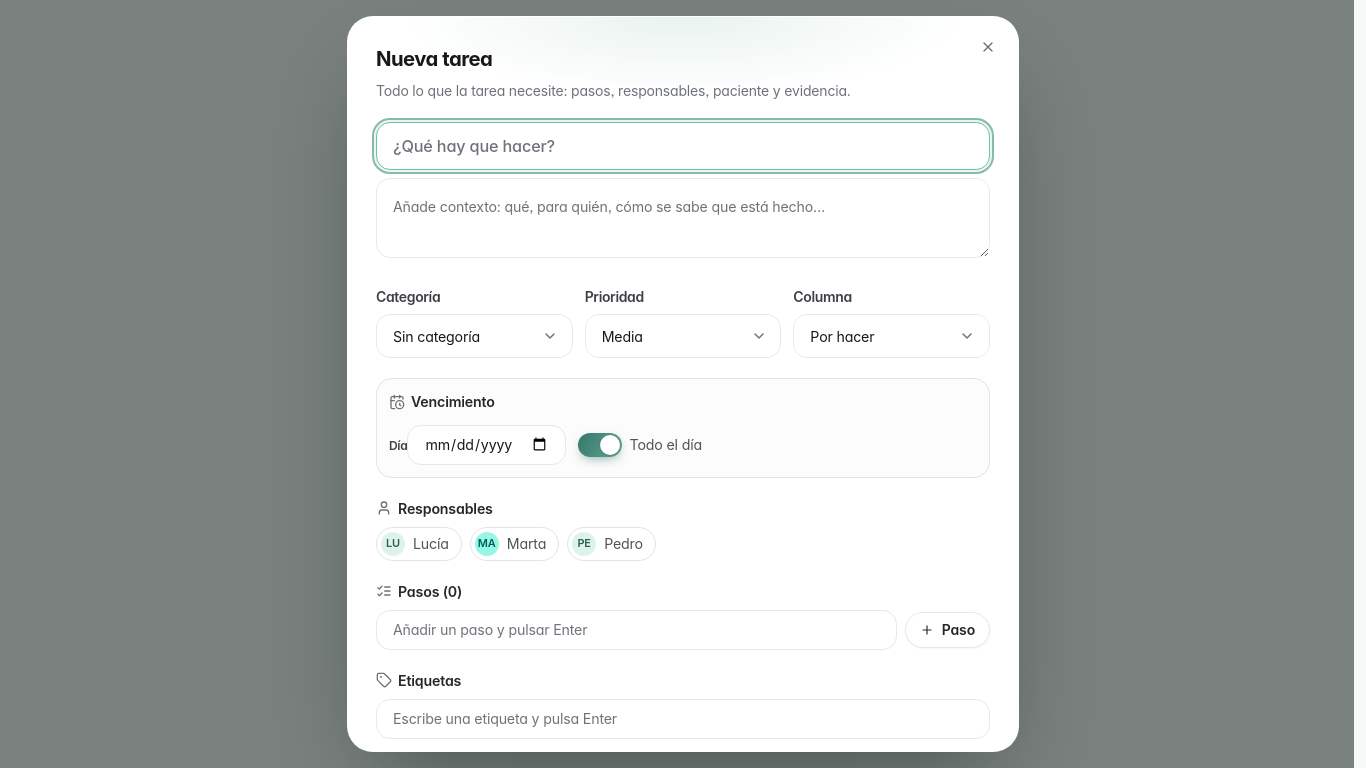
Test: TaskComposer › arma el POST con todo: pasos, responsable, etiqueta y evidencia
This screenshot has width=1366, height=768.
Later steps or results of the test are not shown.
Type "Revisar esterilización" into the field named "Título" at (683, 146), box [376, 122, 990, 170]
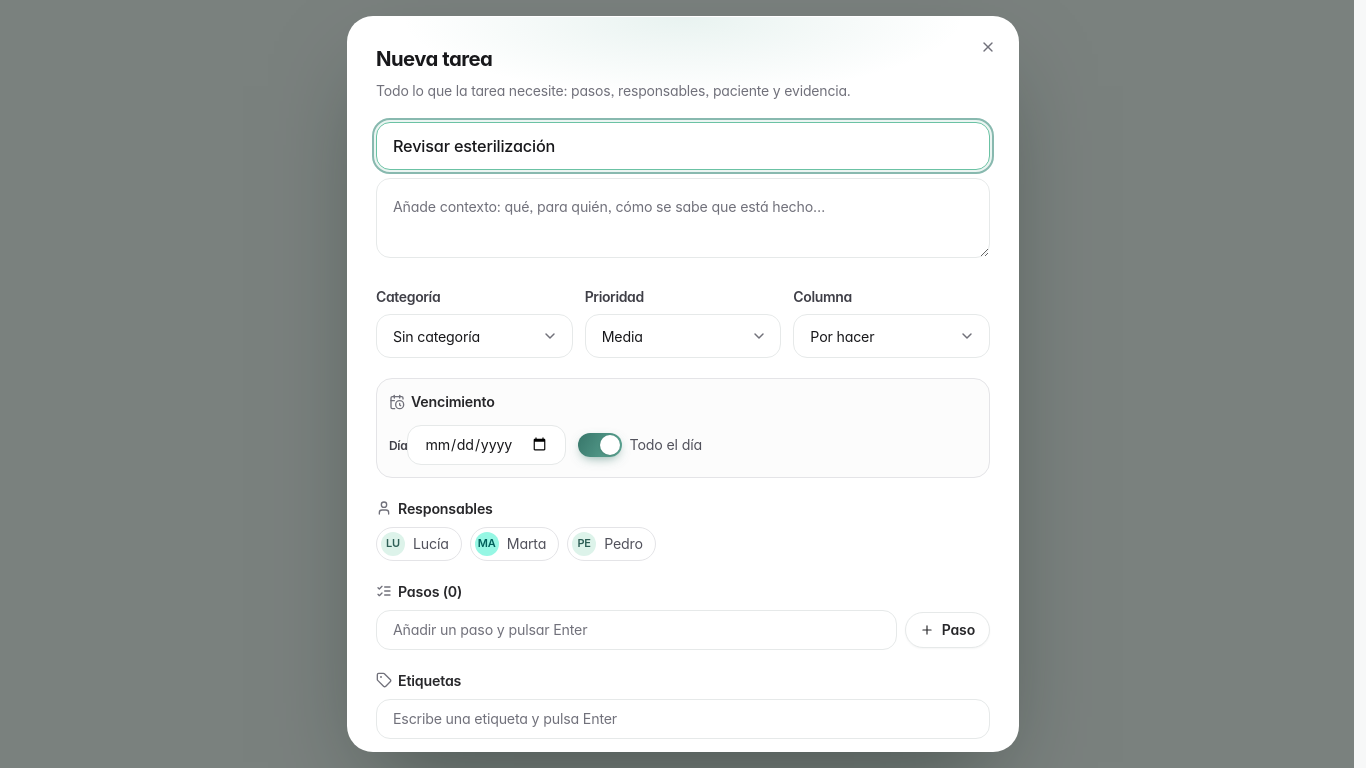
Replace the text in the text box named "Descripción" with "Ciclo del autoclave" at (683, 218), box [376, 178, 990, 258]
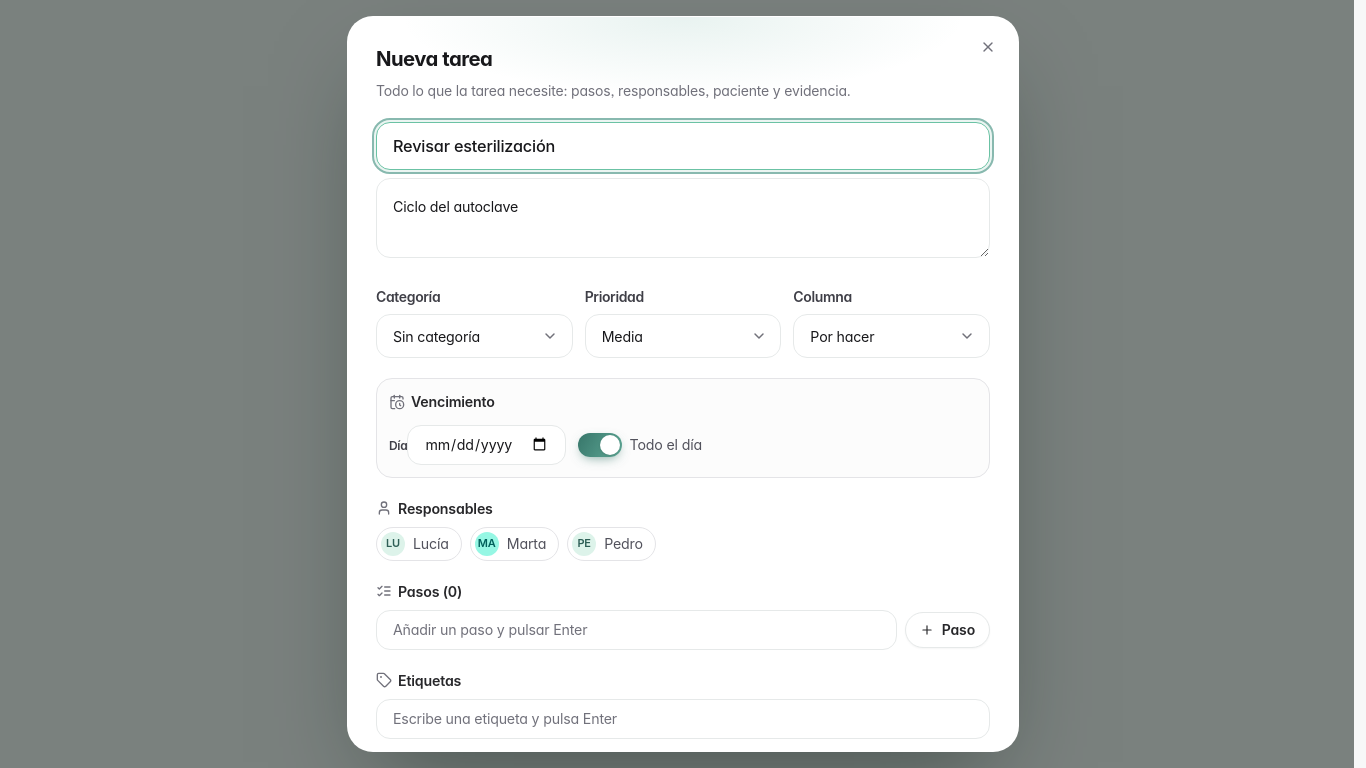
// Un paso.
Type "Anotar ciclo" into the field named "Nuevo paso" at (636, 630), box [376, 610, 897, 650]
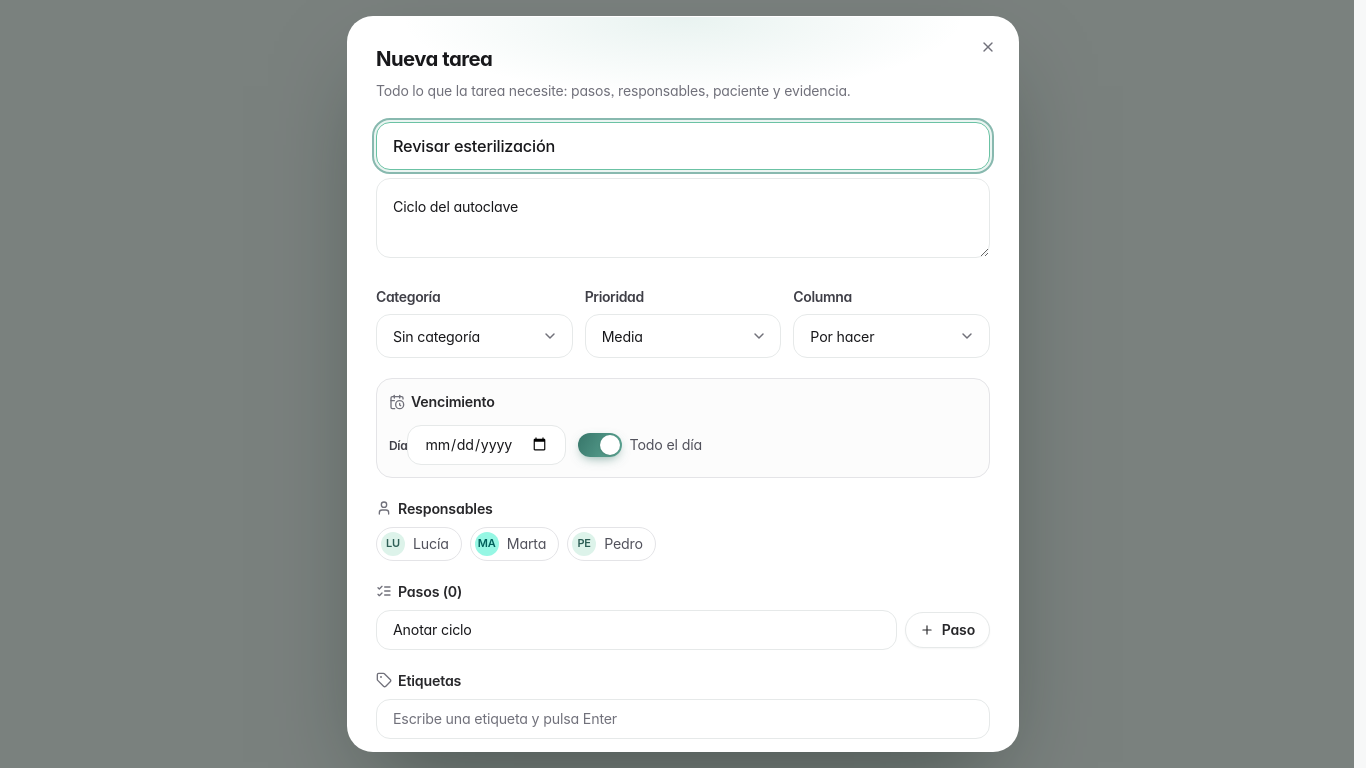
Press Enter in the field named "Nuevo paso", box [376, 610, 897, 650]
(page scrolled)
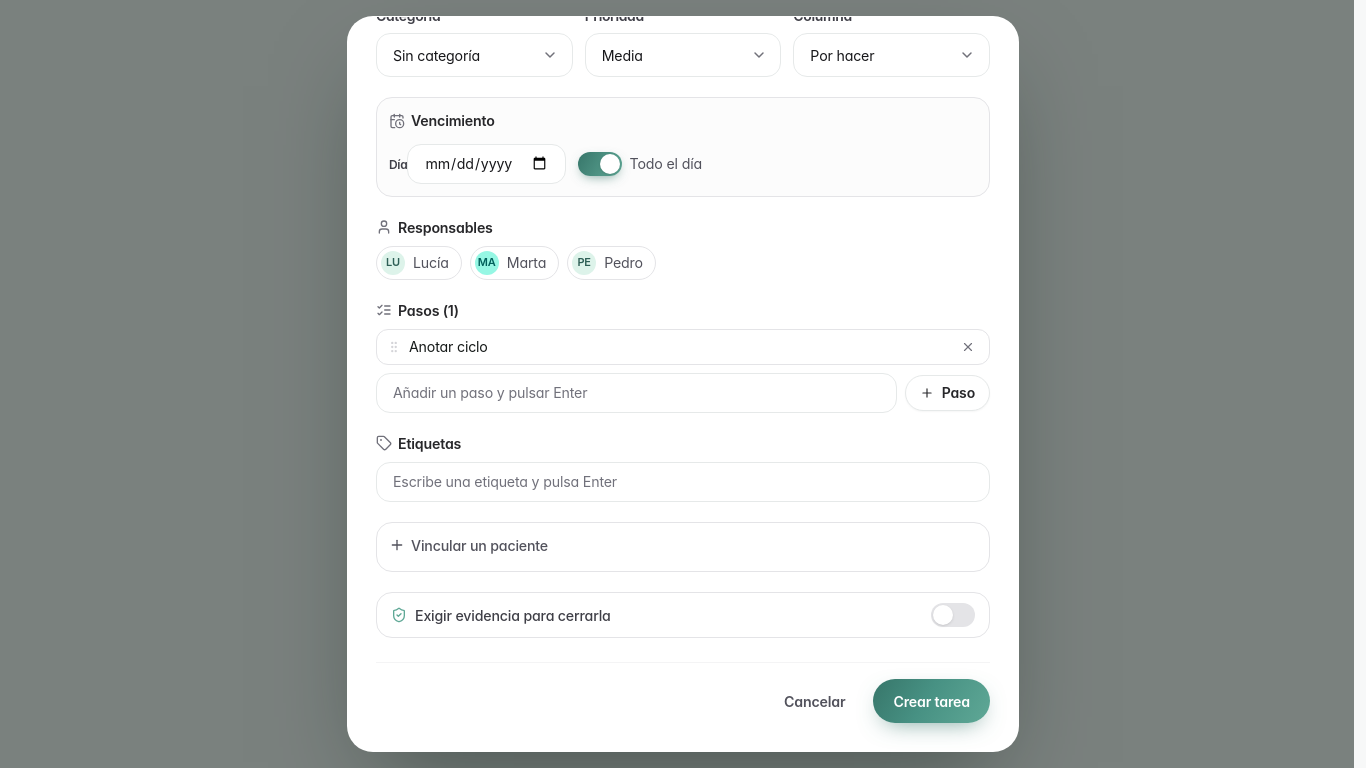
Now the field showing "Anotar ciclo" is shown, box [409, 336, 949, 357]
// Una etiqueta.
Type "urgente" into the field named "Nueva etiqueta" at (683, 482), box [376, 462, 990, 502]
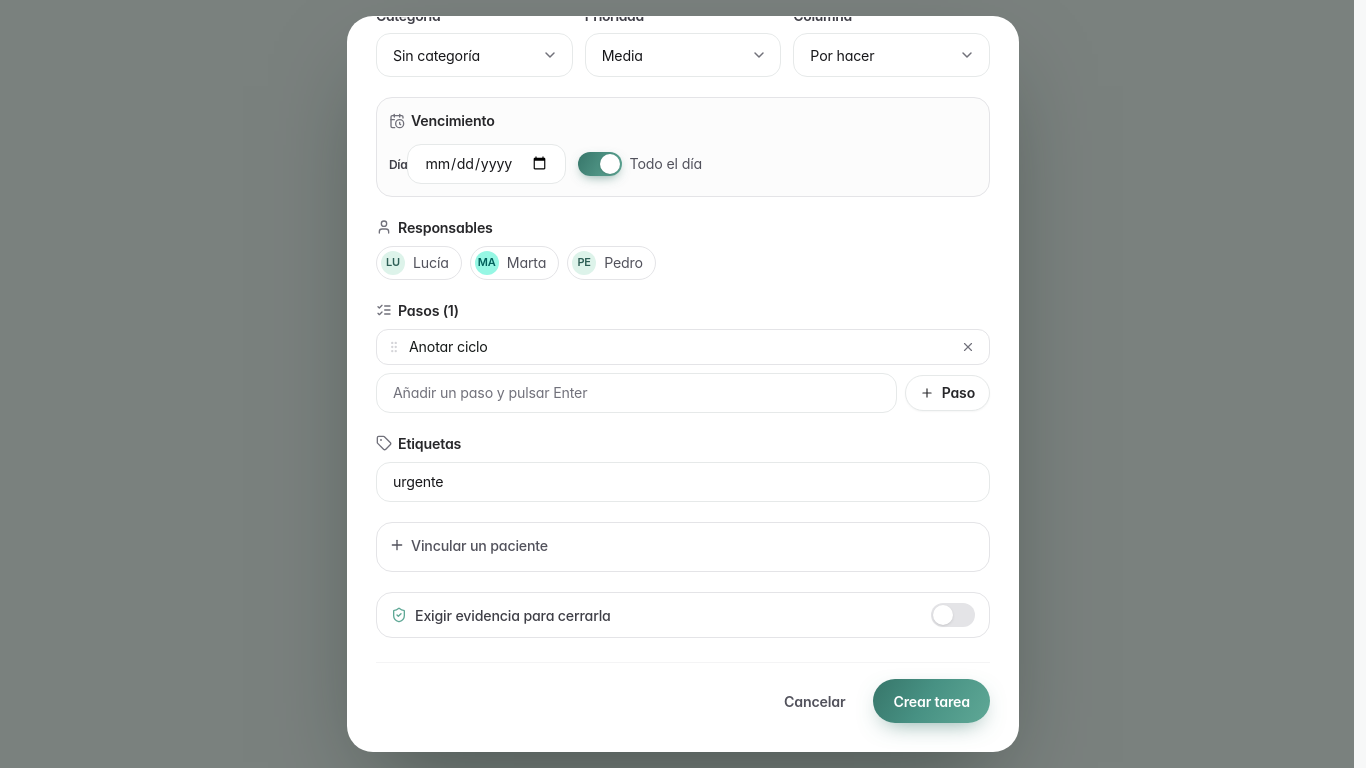
Press Enter in the field named "Nueva etiqueta", box [376, 462, 990, 502]
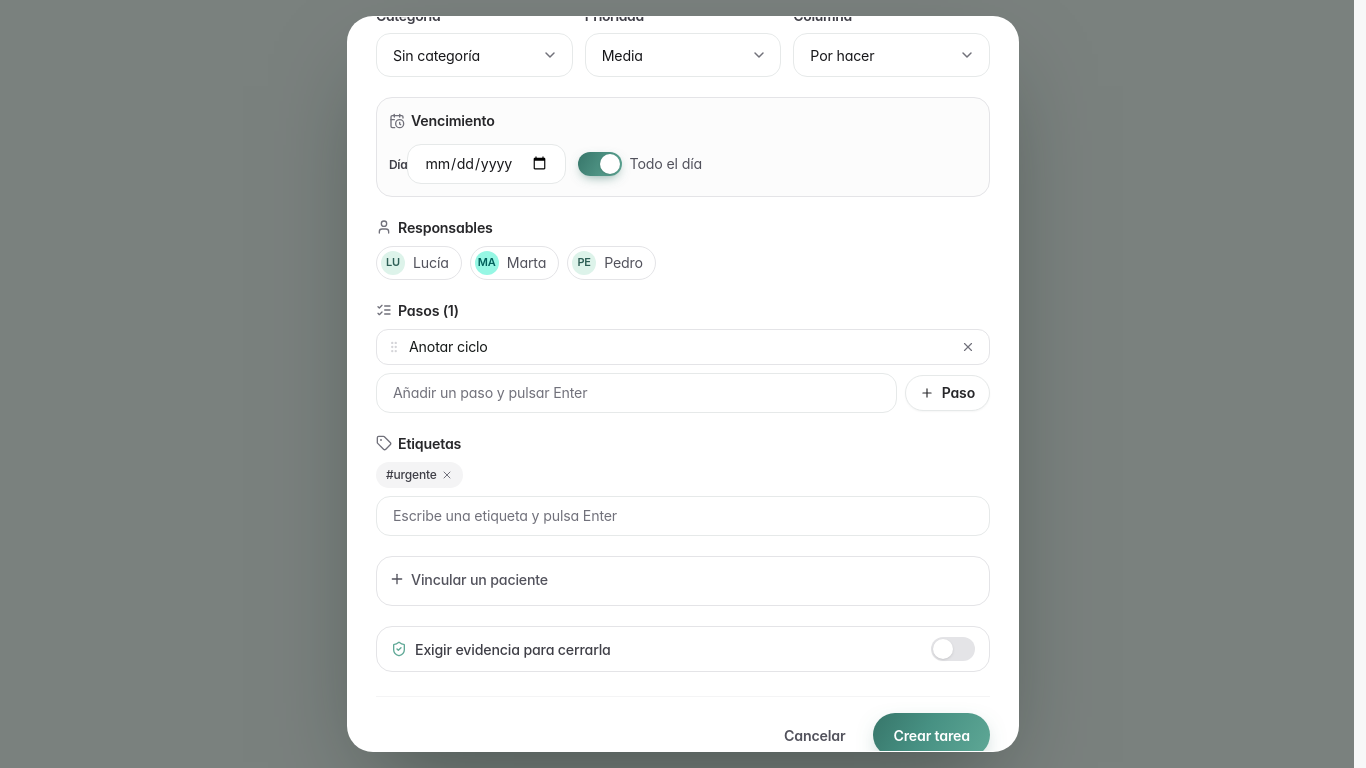
Now the text "#urgente" is shown, box [376, 462, 463, 488]
